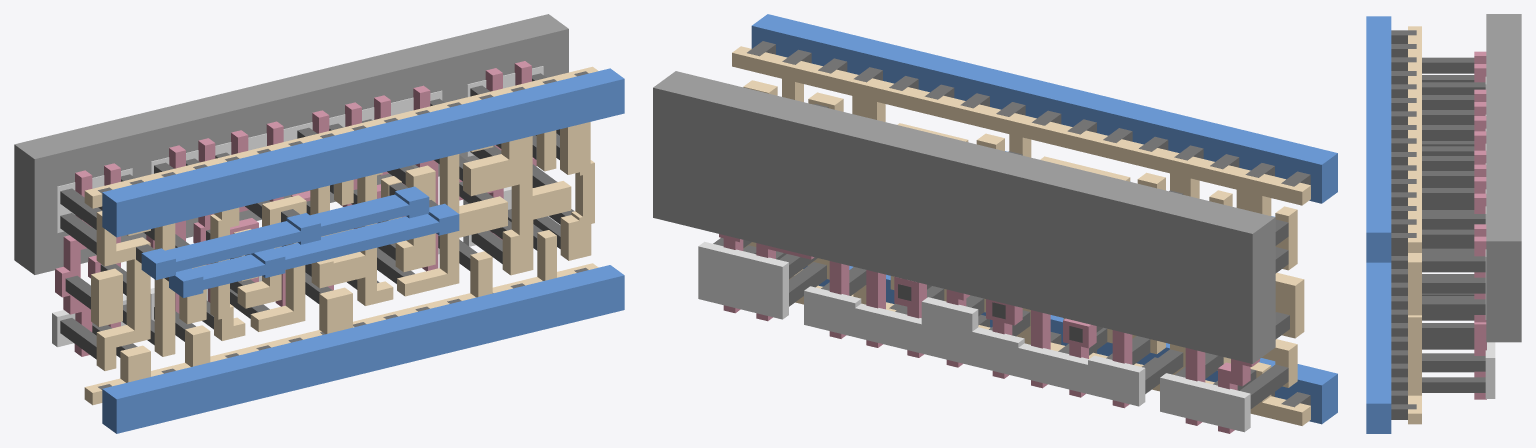
File: sky130_fd_sc_hd__dfxtp_1.gds.gltf
The picture shows the model from 3 angles, left to right: view 1: azimuth 30°, elevation 25°; view 2: azimuth 150°, elevation 25°; view 3: azimuth 270°, elevation 25°; orthographic projection. The views are drawn at different scales.
Parts seen in each view (by area): view 1: sky130_fd_sc_hd__dfxtp_1_met1, sky130_fd_sc_hd__dfxtp_1_li1, sky130_fd_sc_hd__dfxtp_1_nwell, sky130_fd_sc_hd__dfxtp_1_licon, sky130_fd_sc_hd__dfxtp_1_poly, sky130_fd_sc_hd__dfxtp_1_diff, sky130_fd_sc_hd__dfxtp_1_mcon; view 2: sky130_fd_sc_hd__dfxtp_1_nwell, sky130_fd_sc_hd__dfxtp_1_li1, sky130_fd_sc_hd__dfxtp_1_met1, sky130_fd_sc_hd__dfxtp_1_diff, sky130_fd_sc_hd__dfxtp_1_poly, sky130_fd_sc_hd__dfxtp_1_licon, sky130_fd_sc_hd__dfxtp_1_mcon; view 3: sky130_fd_sc_hd__dfxtp_1_licon, sky130_fd_sc_hd__dfxtp_1_nwell, sky130_fd_sc_hd__dfxtp_1_met1, sky130_fd_sc_hd__dfxtp_1_mcon, sky130_fd_sc_hd__dfxtp_1_li1, sky130_fd_sc_hd__dfxtp_1_poly, sky130_fd_sc_hd__dfxtp_1_diff.
Part boxes in pixels (left/top/right/bottom): sky130_fd_sc_hd__dfxtp_1_met1: left=102, top=68, right=624, bottom=433; sky130_fd_sc_hd__dfxtp_1_li1: left=84, top=66, right=598, bottom=405; sky130_fd_sc_hd__dfxtp_1_nwell: left=14, top=14, right=568, bottom=274; sky130_fd_sc_hd__dfxtp_1_licon: left=60, top=73, right=574, bottom=359; sky130_fd_sc_hd__dfxtp_1_poly: left=55, top=61, right=536, bottom=356; sky130_fd_sc_hd__dfxtp_1_diff: left=52, top=66, right=543, bottom=347; sky130_fd_sc_hd__dfxtp_1_mcon: left=98, top=71, right=588, bottom=389; sky130_fd_sc_hd__dfxtp_1_nwell: left=653, top=71, right=1275, bottom=363; sky130_fd_sc_hd__dfxtp_1_li1: left=732, top=46, right=1310, bottom=425; sky130_fd_sc_hd__dfxtp_1_met1: left=751, top=14, right=1337, bottom=424; sky130_fd_sc_hd__dfxtp_1_diff: left=698, top=241, right=1250, bottom=432; sky130_fd_sc_hd__dfxtp_1_poly: left=719, top=234, right=1259, bottom=433; sky130_fd_sc_hd__dfxtp_1_licon: left=713, top=104, right=1289, bottom=408; sky130_fd_sc_hd__dfxtp_1_mcon: left=747, top=41, right=1310, bottom=407; sky130_fd_sc_hd__dfxtp_1_licon: left=1422, top=57, right=1485, bottom=392; sky130_fd_sc_hd__dfxtp_1_nwell: left=1486, top=14, right=1521, bottom=342; sky130_fd_sc_hd__dfxtp_1_met1: left=1366, top=16, right=1391, bottom=433; sky130_fd_sc_hd__dfxtp_1_mcon: left=1391, top=30, right=1416, bottom=419; sky130_fd_sc_hd__dfxtp_1_li1: left=1408, top=26, right=1421, bottom=424; sky130_fd_sc_hd__dfxtp_1_poly: left=1474, top=51, right=1486, bottom=399; sky130_fd_sc_hd__dfxtp_1_diff: left=1485, top=77, right=1495, bottom=398.
Bounding box in the file's own units: 7.74 × 3.2 × 2.24.
